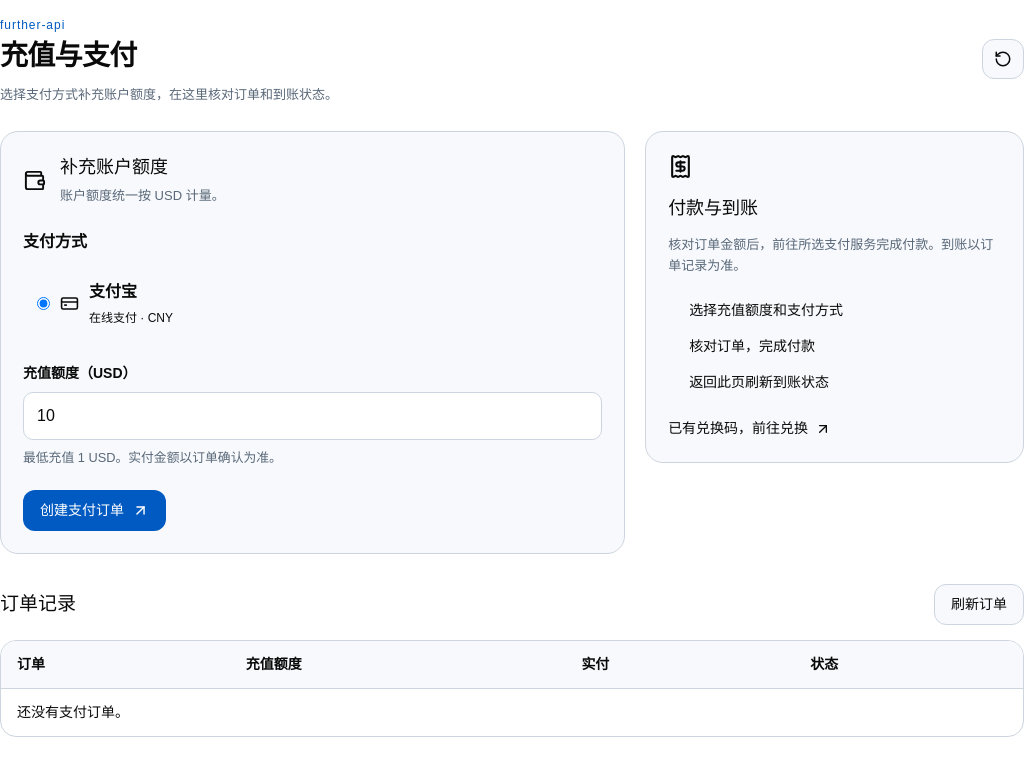
Test: independent gateway payment workspace › retains the amount and allows retry after checkout fails
Step 1. Replace the text in the field labelled "充值额度（USD）" with "23" → (313, 416), box top-left (23, 392), bottom-right (602, 440)
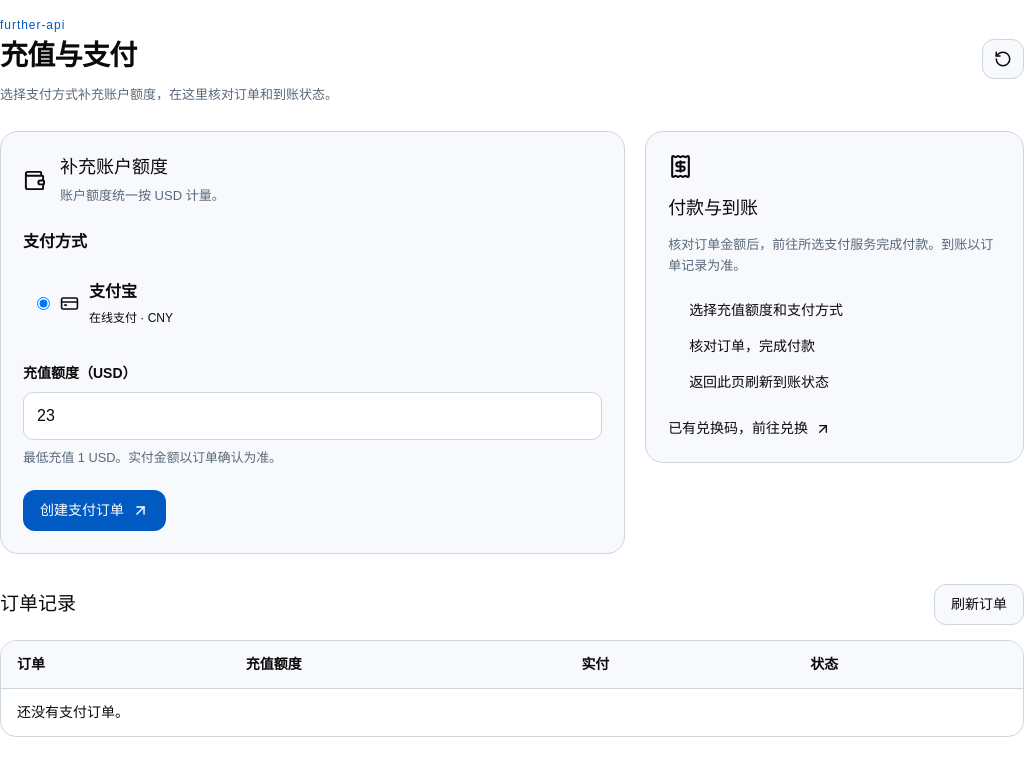
Step 2. Click the button "创建支付订单" → (94, 510), box top-left (23, 490), bottom-right (166, 531)
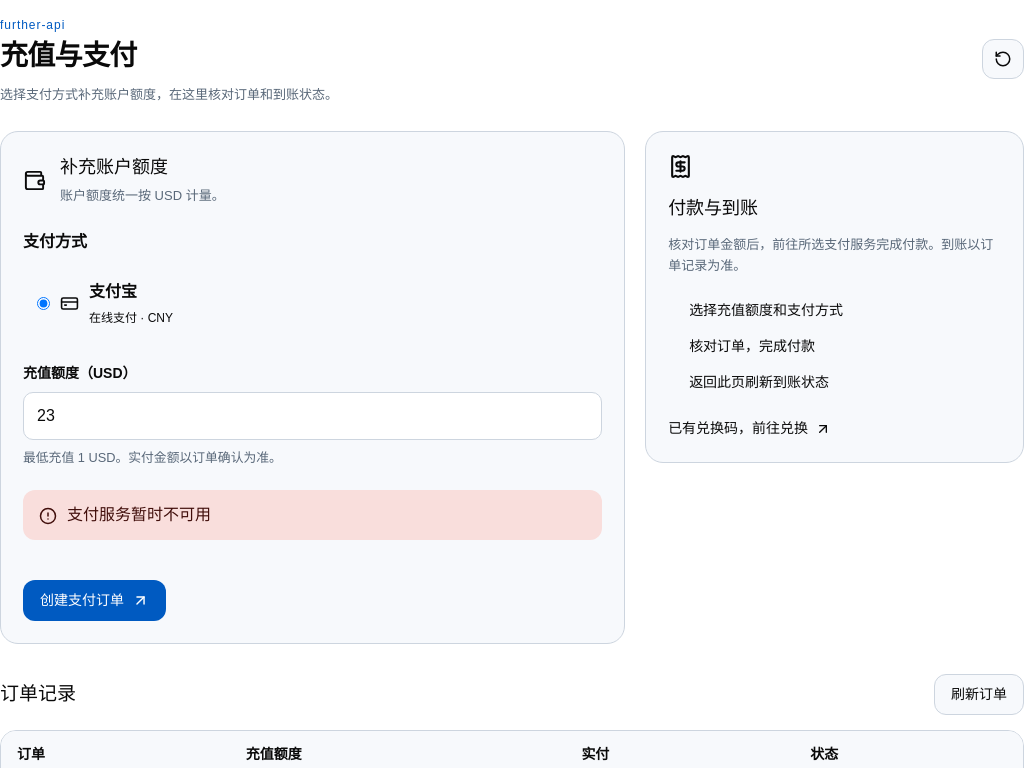
Expected: the button "创建支付订单" is enabled, top-left (23, 580), bottom-right (166, 621)
Expected: the message reads "支付服务暂时不可用", top-left (67, 506), bottom-right (211, 523)
